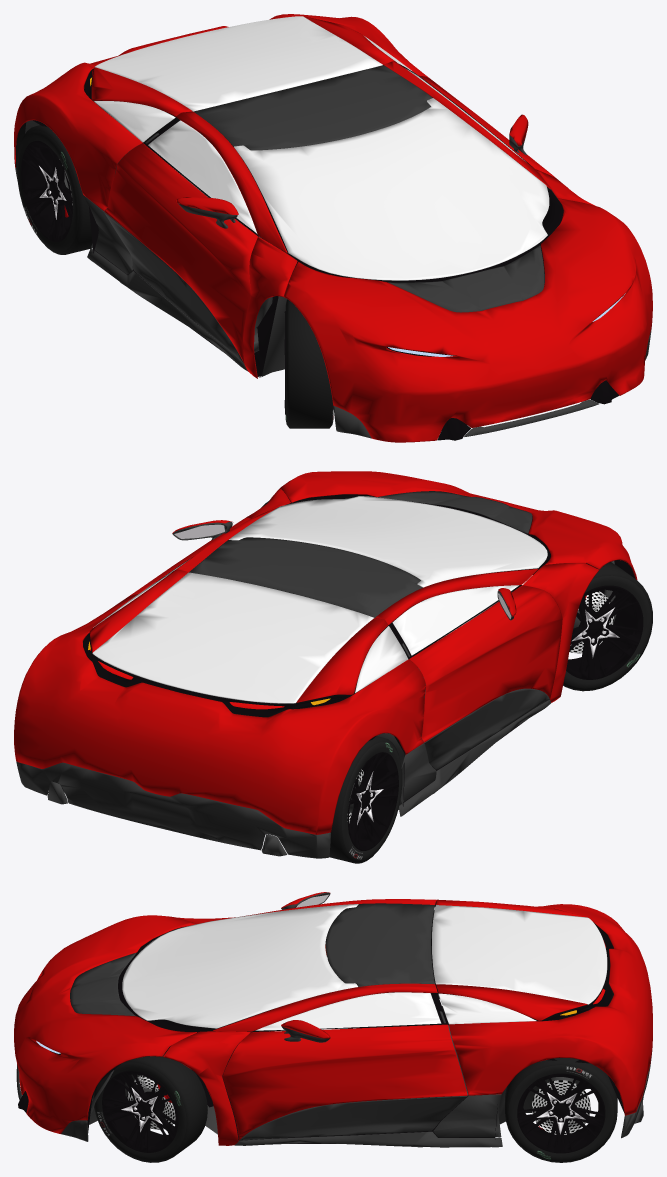
File: concept-lod.glb
3 renders of one model, top to bottom at view 1: azimuth 30°, elevation 25°; view 2: azimuth 150°, elevation 25°; view 3: azimuth 270°, elevation 25°, orthographic. The views are drawn at different scales.
Visible parts, largest first — view 1: BodyHood, BodyWindshield, BodyRearwindow, BodyDoorRColor1, BodyRearPanelsColor1, BodyRoofPanel, BodyPillars, BodyPanelsColor2, BodyHoodTopgrill, WheelFrontR, BodyDoorRWindow, WheelRearRRim (+9 smaller); view 2: BodyRearPanelsColor1, BodyRearwindow, BodyWindshield, BodyPanelsColor2, BodyDoorRColor1, BodyRoofPanel, BodyHood, BodyPillars, WheelFrontRRim, BodyDoorRColor2, BodyDoorRWindow, WheelRearRRim (+6 smaller); view 3: BodyWindshield, BodyRearPanelsColor1, BodyDoorLColor1, BodyHood, BodyRearwindow, BodyRoofPanel, BodyPillars, BodyDoorLColor2, BodyPanelsColor2, WheelFrontL, WheelRearLRim, WheelFrontLRim (+11 smaller).
Part boxes in pixels (x1=…): BodyHood: x1=283, y1=198, x2=652, y2=442; BodyWindshield: x1=234, y1=98, x2=549, y2=280; BodyRearwindow: x1=94, y1=16, x2=382, y2=111; BodyDoorRColor1: x1=104, y1=143, x2=257, y2=363; BodyRearPanelsColor1: x1=14, y1=14, x2=429, y2=210; BodyRoofPanel: x1=193, y1=65, x2=432, y2=150; BodyPillars: x1=176, y1=61, x2=598, y2=378; BodyPanelsColor2: x1=15, y1=164, x2=651, y2=438; BodyHoodTopgrill: x1=388, y1=245, x2=544, y2=312; WheelFrontR: x1=285, y1=299, x2=333, y2=428; BodyDoorRWindow: x1=148, y1=120, x2=257, y2=233; WheelRearRRim: x1=21, y1=140, x2=73, y2=241; BodyRearPanelsColor1: x1=14, y1=569, x2=425, y2=834; BodyRearwindow: x1=92, y1=572, x2=373, y2=703; BodyWindshield: x1=229, y1=496, x2=547, y2=587; BodyPanelsColor2: x1=16, y1=699, x2=550, y2=858; BodyDoorRColor1: x1=409, y1=585, x2=562, y2=742; BodyRoofPanel: x1=189, y1=537, x2=422, y2=617; BodyHood: x1=278, y1=471, x2=637, y2=579; BodyPillars: x1=173, y1=489, x2=598, y2=702; WheelFrontRRim: x1=566, y1=585, x2=643, y2=679; BodyDoorRColor2: x1=424, y1=688, x2=549, y2=769; BodyDoorRWindow: x1=392, y1=585, x2=518, y2=655; WheelRearRRim: x1=347, y1=752, x2=398, y2=850; BodyWindshield: x1=122, y1=904, x2=358, y2=1028; BodyRearPanelsColor1: x1=436, y1=899, x2=652, y2=1115; BodyDoorLColor1: x1=222, y1=1024, x2=467, y2=1139; BodyHood: x1=14, y1=915, x2=196, y2=1133; BodyRearwindow: x1=432, y1=905, x2=607, y2=1004; BodyRoofPanel: x1=326, y1=903, x2=434, y2=986; BodyPillars: x1=163, y1=899, x2=437, y2=1145; BodyDoorLColor2: x1=240, y1=1096, x2=467, y2=1140; BodyPanelsColor2: x1=16, y1=1004, x2=652, y2=1147; WheelFrontL: x1=93, y1=1054, x2=207, y2=1162; WheelRearLRim: x1=517, y1=1073, x2=605, y2=1153; WheelFrontLRim: x1=102, y1=1070, x2=178, y2=1152.
Size of the model in its own units: 2.54 by 1.15 by 4.36.
19 materials, 4 textured.
